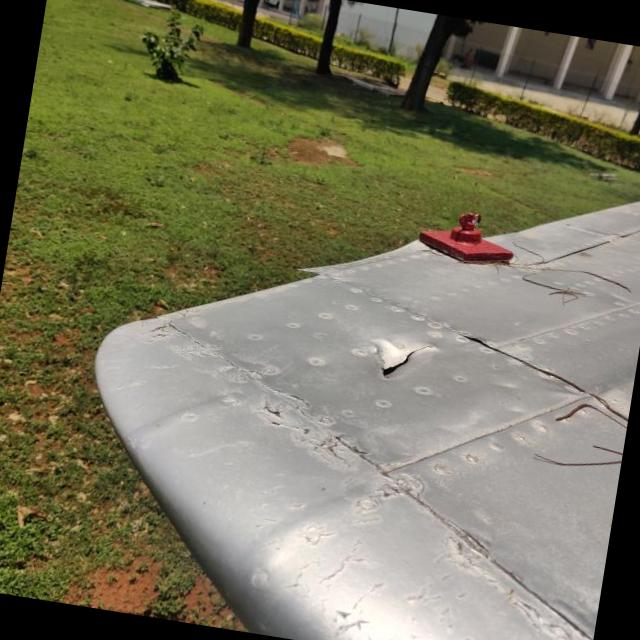Crack: (371, 340, 432, 376)
